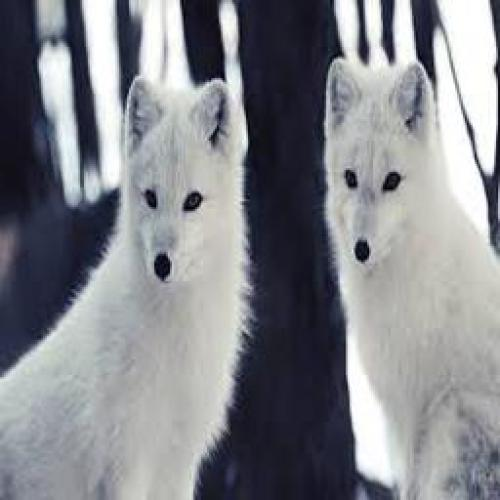arctic_fox-endangered: (1, 76, 253, 490), (322, 55, 490, 488)
